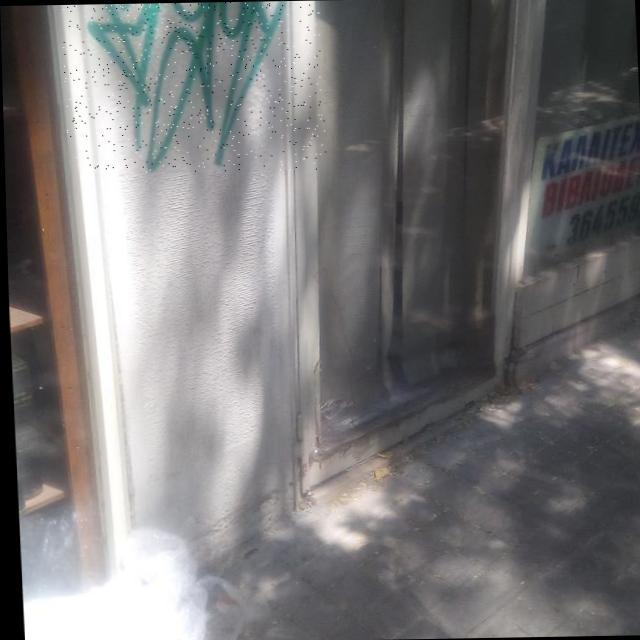-: (61, 0, 326, 173)
